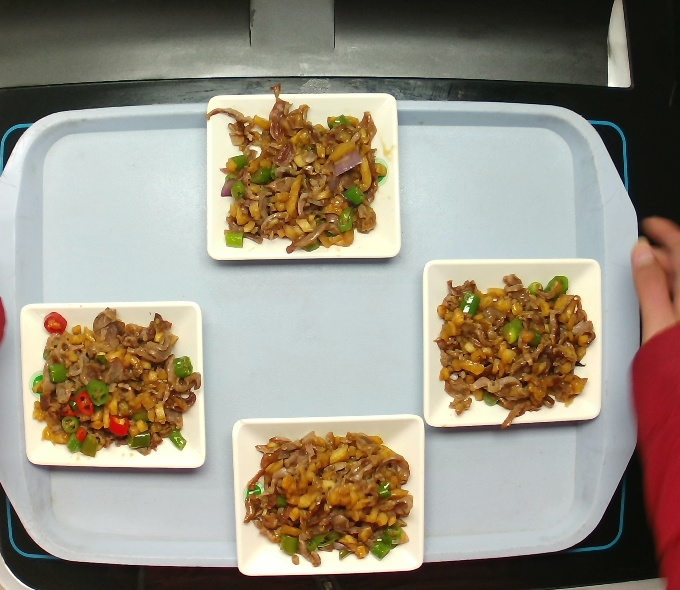wcq-ZhaCaiChaoJiZhen: (22, 297, 207, 469), (209, 93, 396, 257), (425, 262, 601, 428), (240, 424, 417, 566)
